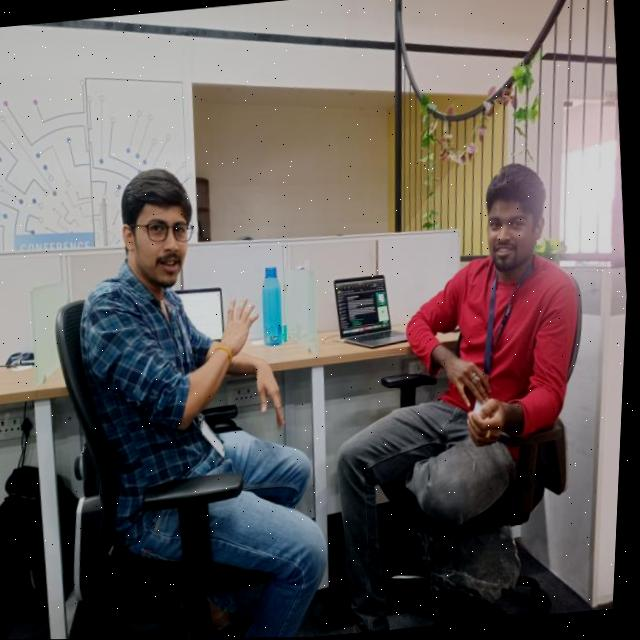id_card: (144, 284, 245, 465), (471, 264, 536, 404)
